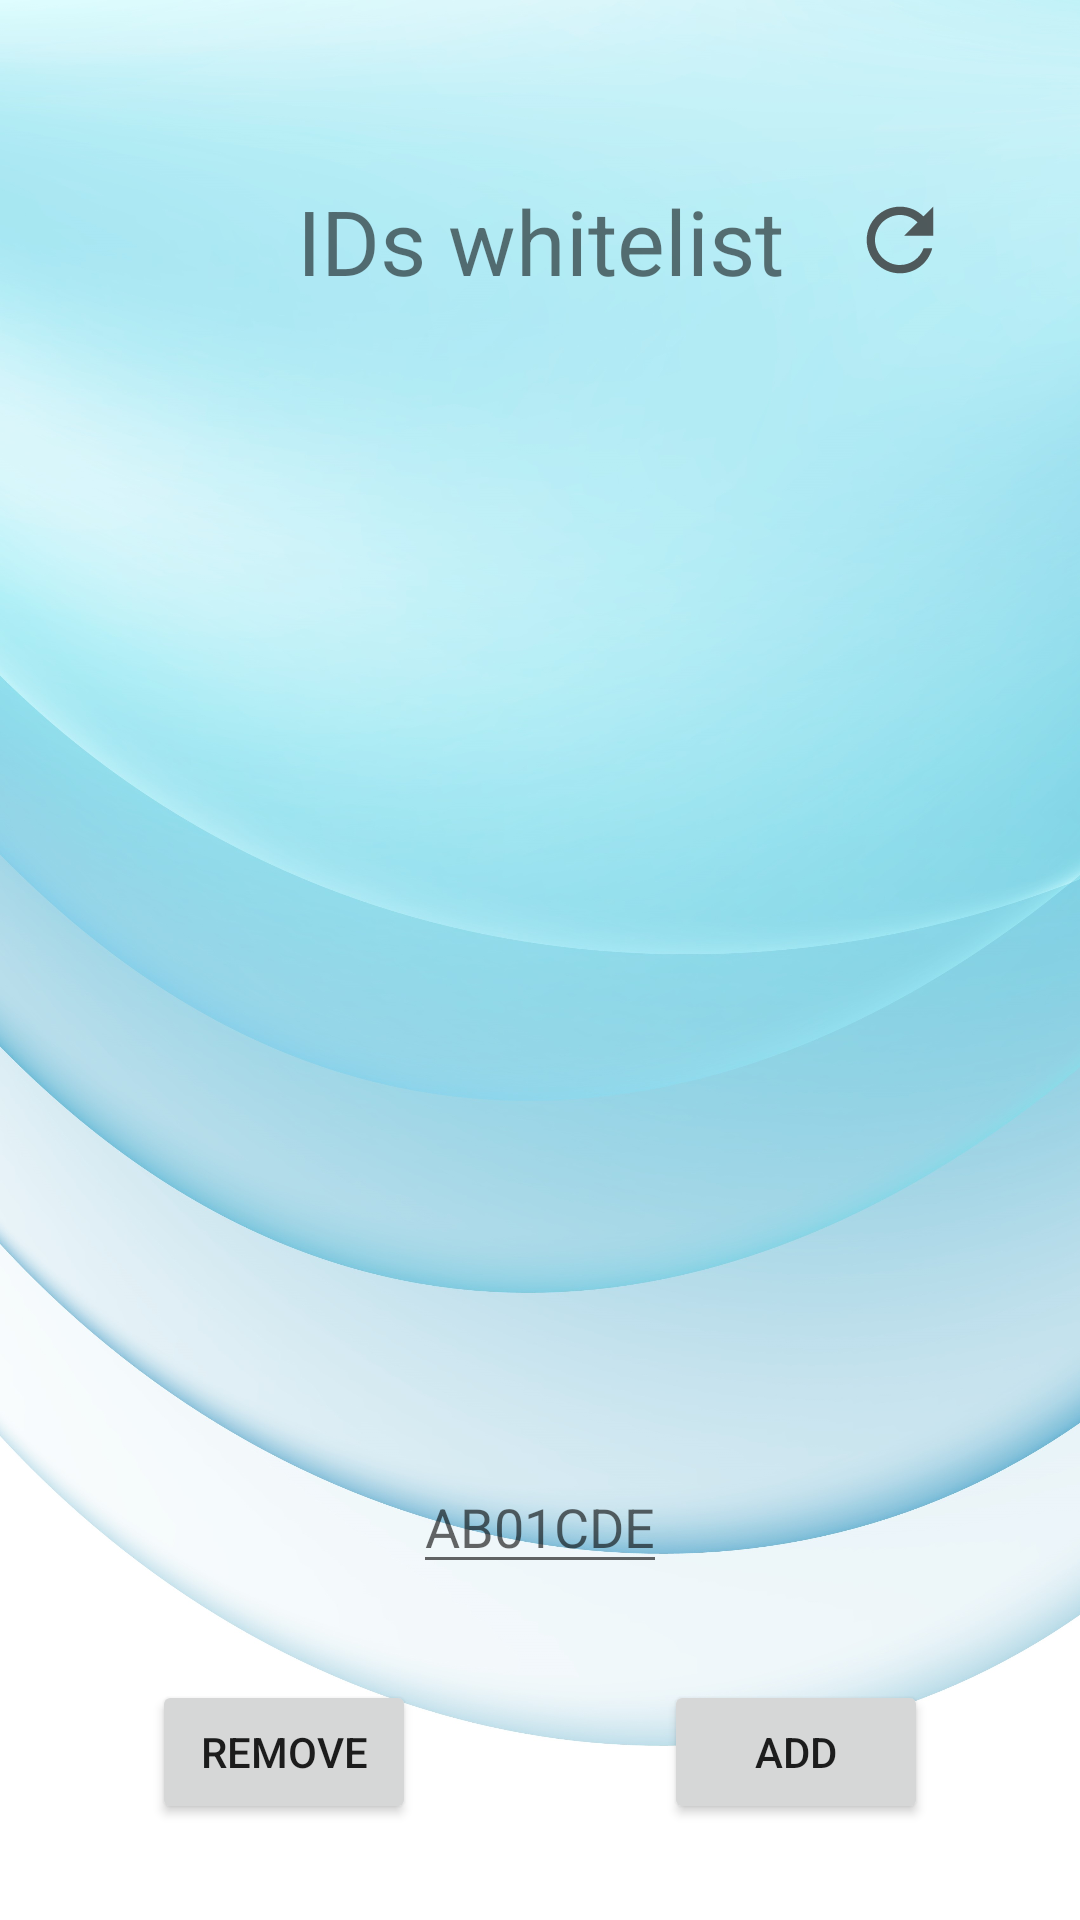

Icons on this 1080px×1920px Android screen, each with the point to tap as point (x, y):
reload: point (900, 240)
